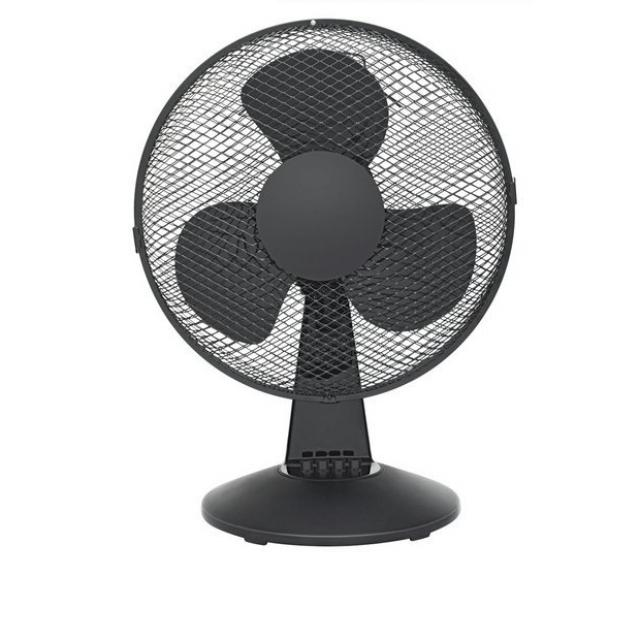fan: (128, 17, 530, 549)
